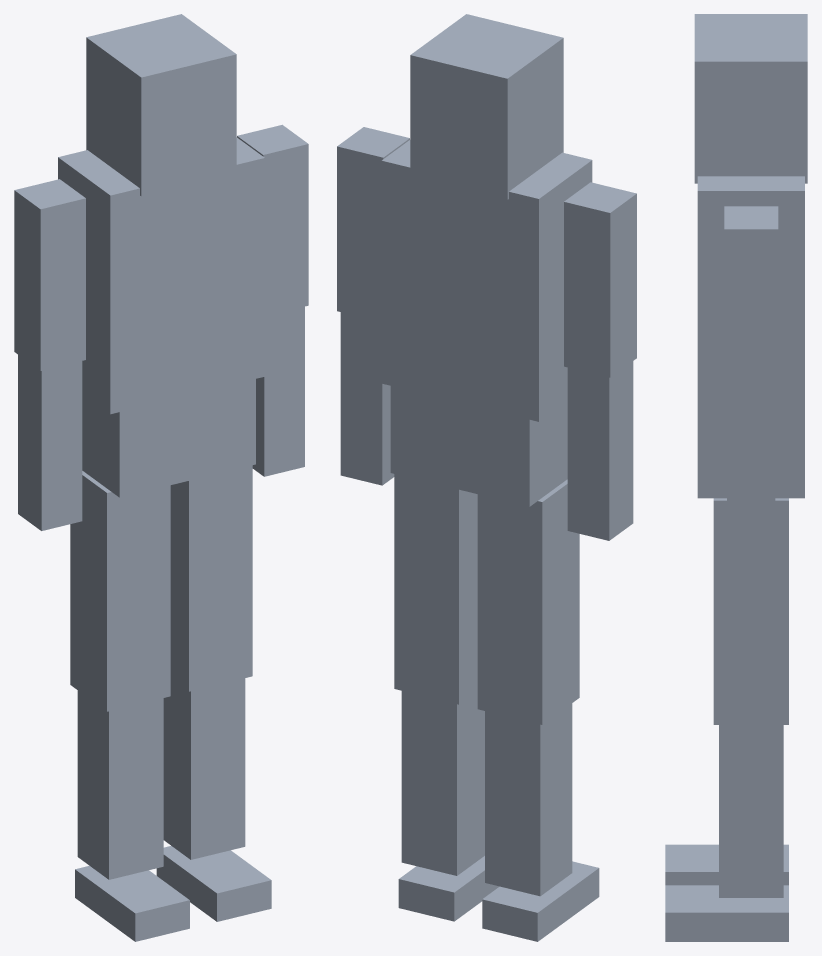
Rendered from placeholder_avatar.glb.
The picture shows the model from 3 angles, left to right: view 1: azimuth 30°, elevation 25°; view 2: azimuth 150°, elevation 25°; view 3: azimuth 270°, elevation 25°; orthographic projection. The views are drawn at different scales.
Visible parts, largest first — view 1: PlaceholderAvatar; view 2: PlaceholderAvatar; view 3: PlaceholderAvatar.
Part boxes in pixels (box(x1,y1,x2,y2)): PlaceholderAvatar: box(14, 14, 308, 941); PlaceholderAvatar: box(337, 14, 636, 941); PlaceholderAvatar: box(665, 14, 807, 941).
Bounding box in the file's own units: 0.59 × 1.78 × 0.265.
